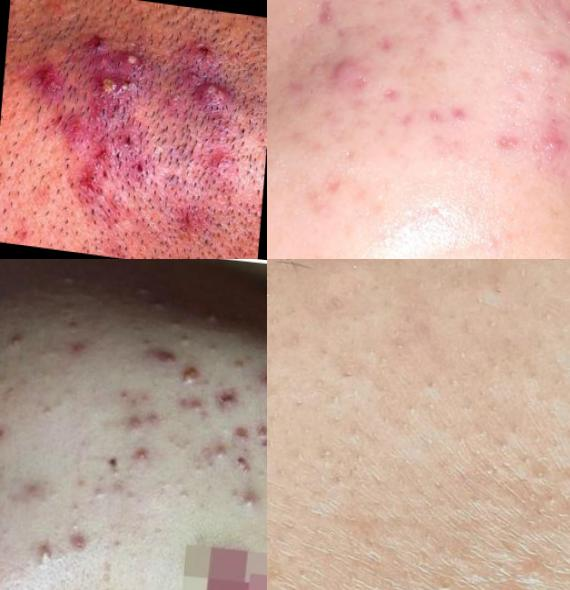acne_scars: (378, 74, 476, 146), (298, 159, 360, 213), (289, 1, 355, 41), (445, 1, 478, 36)
blackhead: (461, 263, 516, 309)
cystic: (318, 37, 374, 93)
folliculitis: (91, 42, 143, 105), (204, 75, 233, 118)
papular: (517, 110, 570, 177), (146, 344, 188, 375), (214, 385, 244, 419), (111, 410, 154, 433), (124, 445, 162, 468), (68, 339, 98, 363), (230, 355, 258, 378), (183, 397, 210, 420), (236, 415, 251, 444), (257, 367, 268, 392)
purulent: (29, 532, 63, 573), (235, 486, 268, 516), (175, 363, 207, 389)
whitehead: (507, 553, 563, 590), (193, 432, 232, 477), (3, 321, 33, 356), (27, 397, 68, 422), (103, 526, 133, 560), (55, 306, 89, 336), (170, 473, 197, 509), (38, 485, 63, 514), (89, 484, 115, 505), (152, 297, 173, 320), (166, 315, 186, 336), (129, 280, 151, 299), (69, 513, 84, 535), (169, 337, 196, 348), (205, 309, 222, 325)
